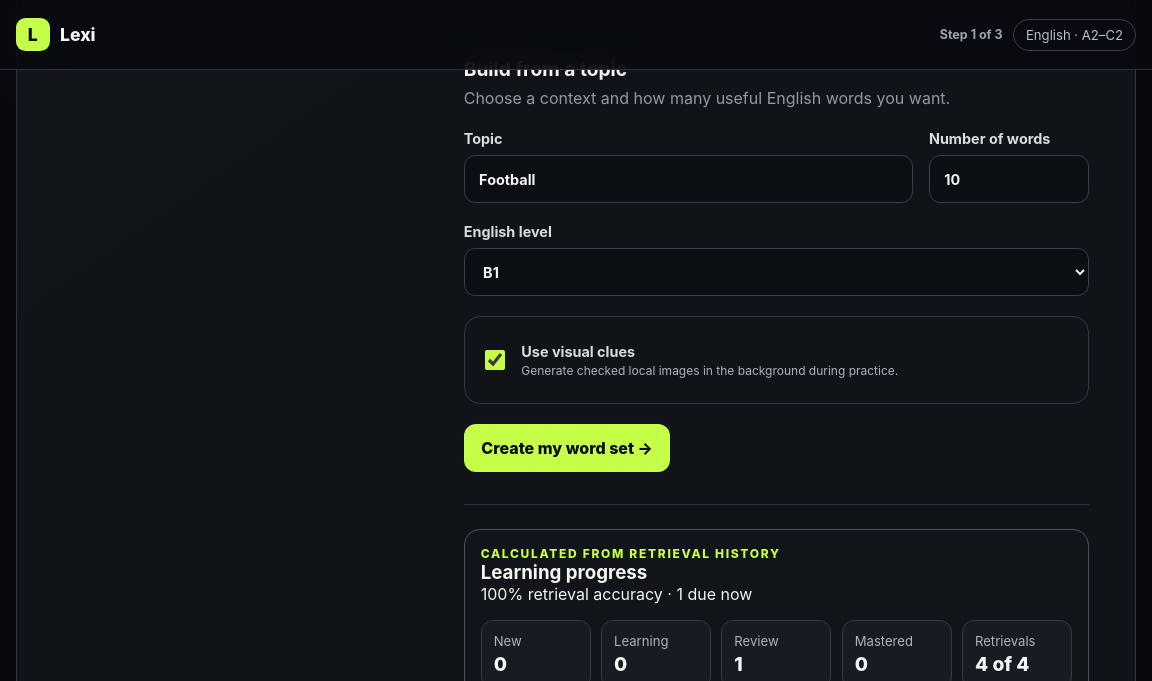
Test case: VocabularyPage › uses typed recall after repeated successful retrievals
(page scrolled)
Click the checkbox labelled "Use visual clues".
click(495, 360)  # box [485,336,505,384]
(page scrolled)
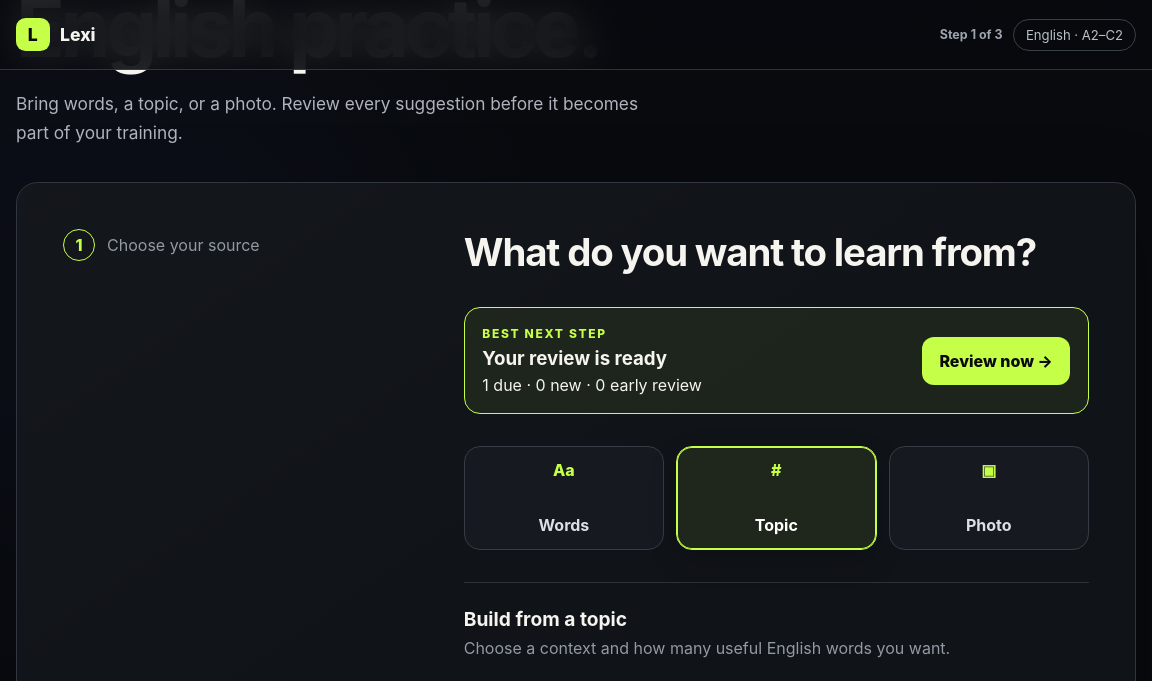
Click the button with aria-label "Start adaptive review".
click(996, 360)  # box [922,336,1070,384]
(page scrolled)
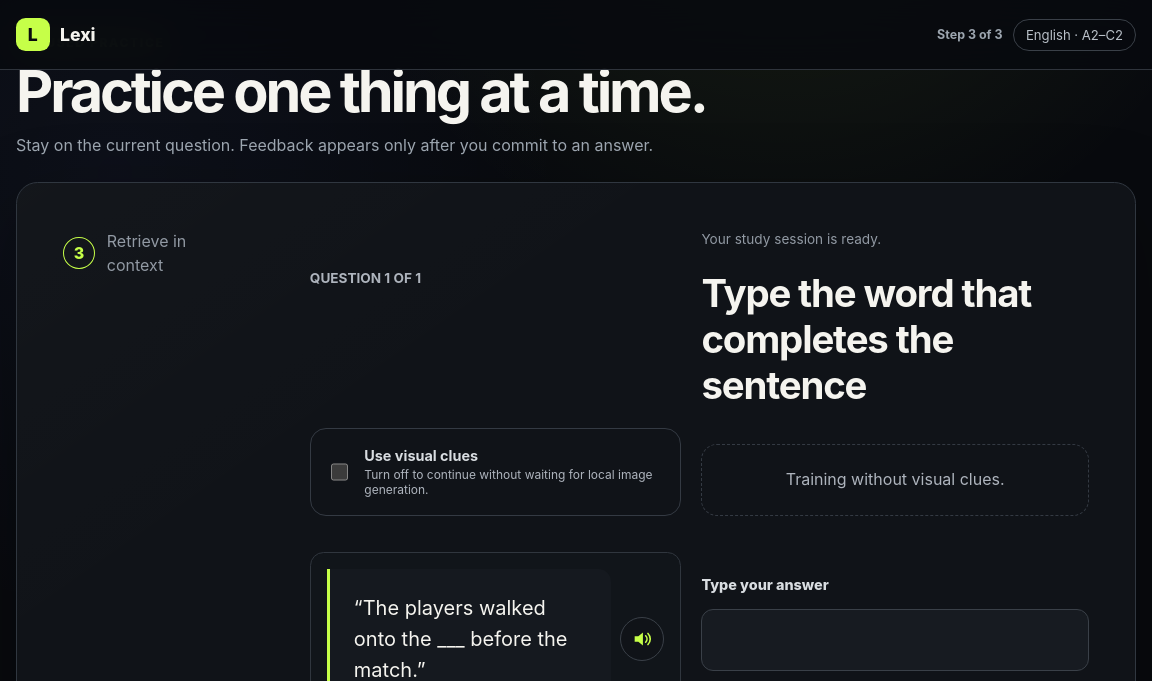
Result: the heading "Type the word that completes the sentence" is shown at [701,270,1089,408]
Type " PiTcH " into the field labelled "Type your answer".
click(895, 640); type(" PiTcH ")  # box [701,609,1089,670]
(page scrolled)
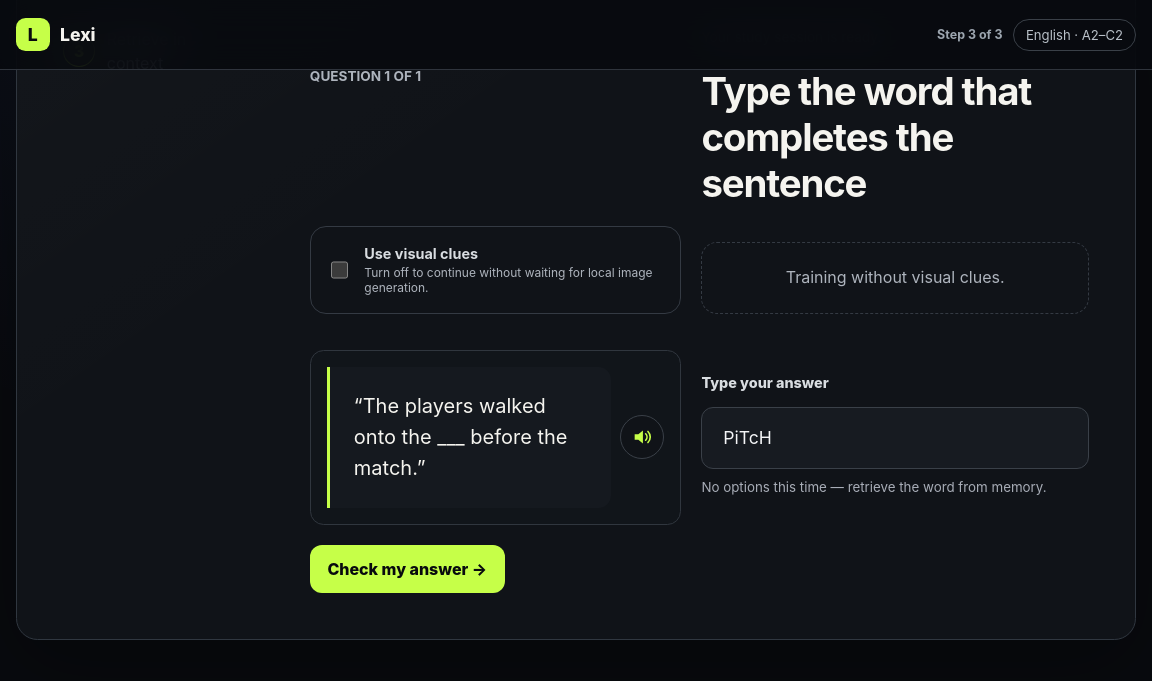
Click the button "Check my answer →".
click(407, 569)  # box [310,545,505,593]
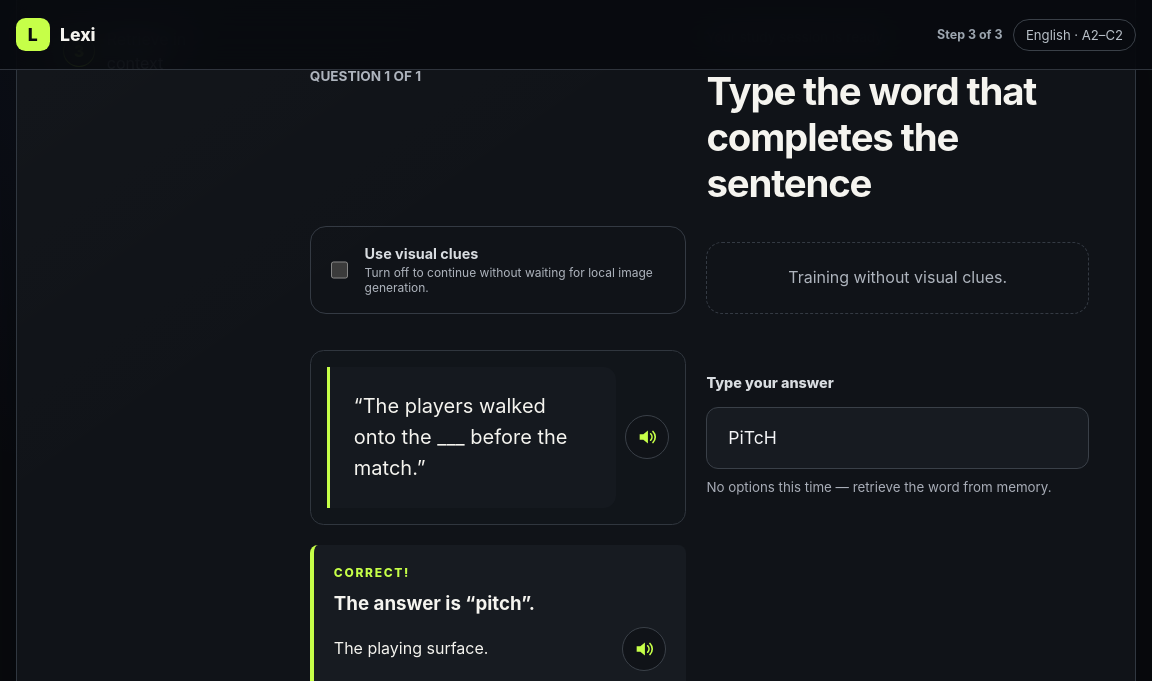
Result: the text "Correct!" is shown at [334,565,410,580]
